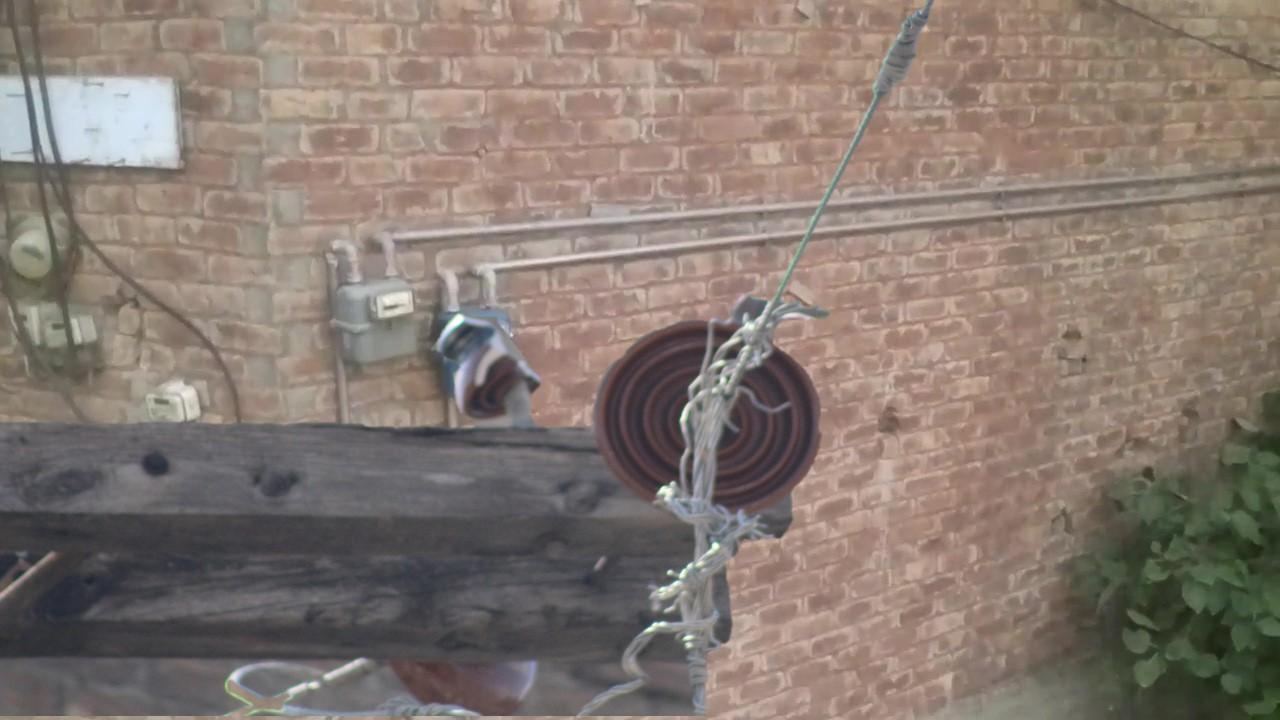defect_pin: (430, 304, 541, 429)
insulator_disc: (589, 314, 827, 535)
